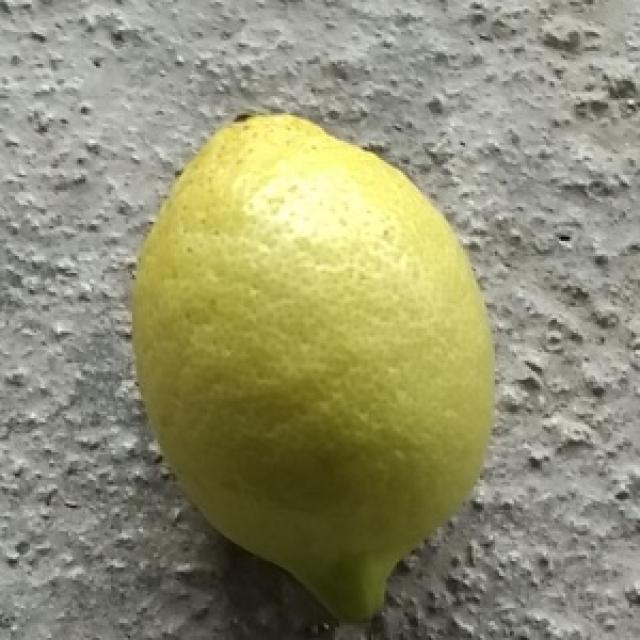Lemon: (132, 107, 496, 631)
